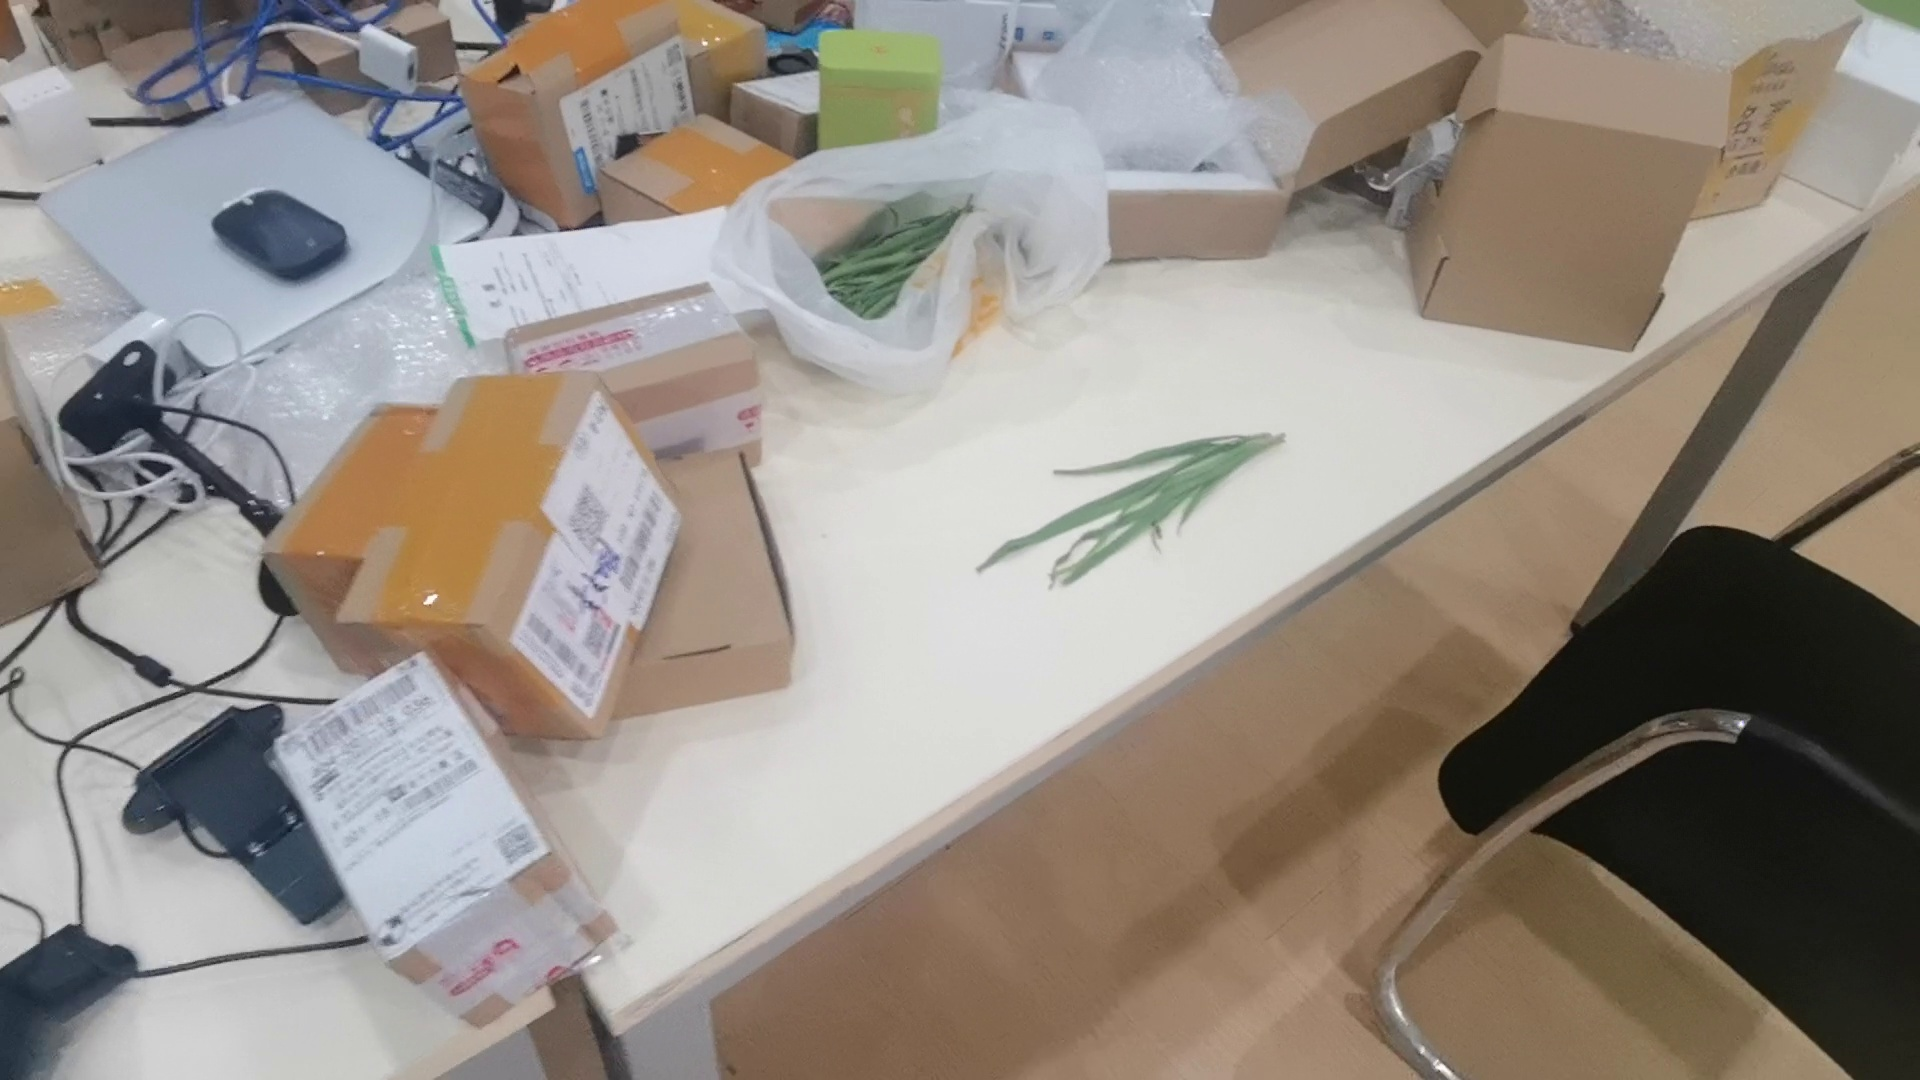chives: (973, 431, 1284, 595)
